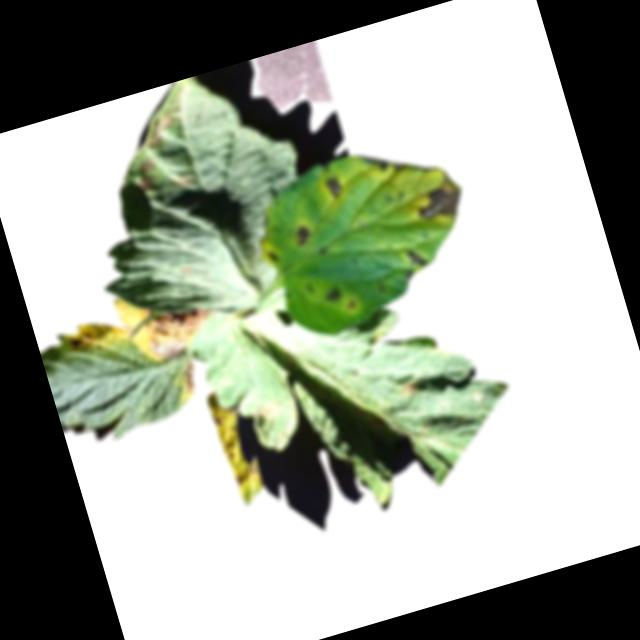Early_blight: (133, 290, 221, 365), (408, 170, 467, 227), (138, 109, 180, 149), (395, 239, 432, 280), (226, 456, 260, 491), (175, 356, 201, 399), (358, 146, 391, 177), (134, 157, 161, 191), (253, 397, 279, 424), (287, 222, 312, 248), (324, 174, 346, 199), (64, 332, 86, 352), (322, 283, 343, 303), (399, 377, 417, 397), (265, 247, 279, 264)
